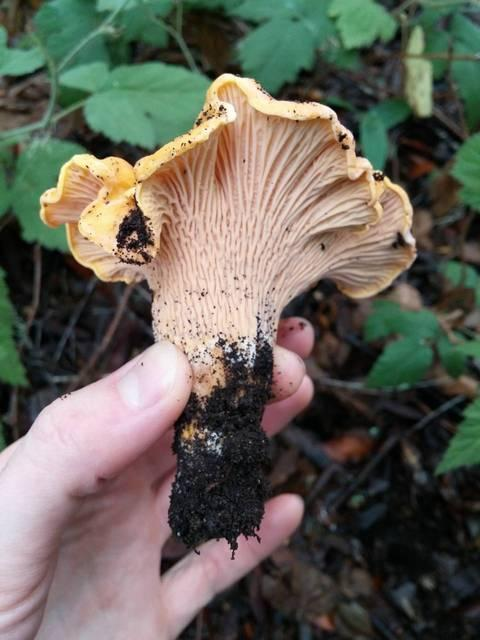Edible Mushroom: (38, 71, 418, 556)
